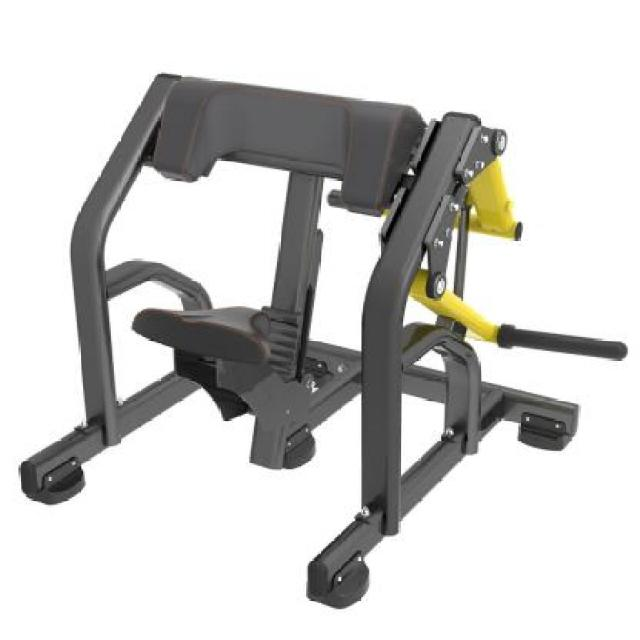arm curl machine: (20, 72, 628, 610)
